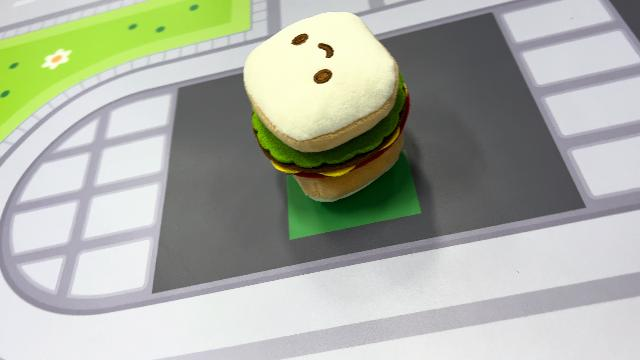sandwich: (241, 10, 414, 204)
